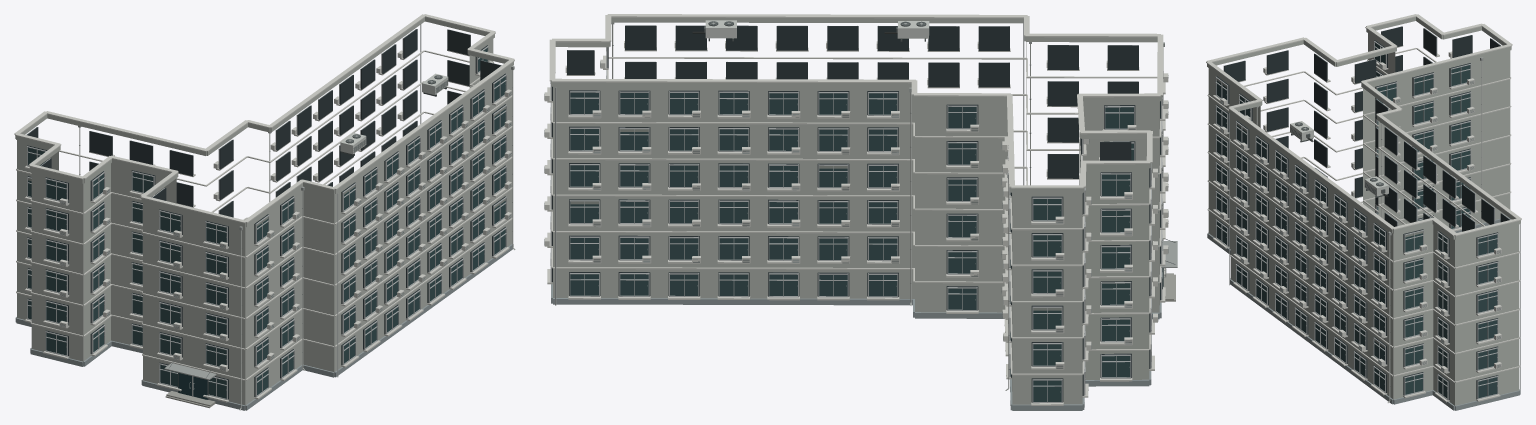
Rendered from osm_way_225242509.glb.
The picture shows the model from 3 angles, left to right: view 1: azimuth 30°, elevation 25°; view 2: azimuth 150°, elevation 25°; view 3: azimuth 270°, elevation 25°; orthographic projection. The views are drawn at different scales.
Visible parts, largest first — view 1: Architecture | 29, Windows and facade details | 29, Roof services | 29, EXTERIOR::osm_way_225242509::rainwater and roof service deta, EXTERIOR::osm_way_225242509::inferred entry doors canopy and; view 2: Architecture | 29, Windows and facade details | 29, Roof services | 29, EXTERIOR::osm_way_225242509::rainwater and roof service deta, EXTERIOR::osm_way_225242509::inferred entry doors canopy and; view 3: Architecture | 29, Windows and facade details | 29, Roof services | 29, EXTERIOR::osm_way_225242509::rainwater and roof service deta.
Boxes of the visible parts, x1,y1,x2,y2 form: Architecture | 29: (15, 17, 513, 410); Windows and facade details | 29: (24, 24, 511, 402); Roof services | 29: (14, 14, 514, 223); EXTERIOR::osm_way_225242509::rainwater and roof service deta: (78, 66, 515, 410); EXTERIOR::osm_way_225242509::inferred entry doors canopy and: (164, 360, 216, 408); Architecture | 29: (551, 17, 1161, 410); Windows and facade details | 29: (544, 23, 1168, 405); Roof services | 29: (549, 14, 1163, 188); EXTERIOR::osm_way_225242509::rainwater and roof service deta: (611, 20, 1164, 390); EXTERIOR::osm_way_225242509::inferred entry doors canopy and: (1161, 239, 1177, 301); Architecture | 29: (1207, 17, 1520, 410); Windows and facade details | 29: (1213, 26, 1520, 402); Roof services | 29: (1206, 14, 1521, 236); EXTERIOR::osm_way_225242509::rainwater and roof service deta: (1256, 57, 1483, 402).
Bounding box in the file's own units: 53.26 × 20.58 × 32.08.
